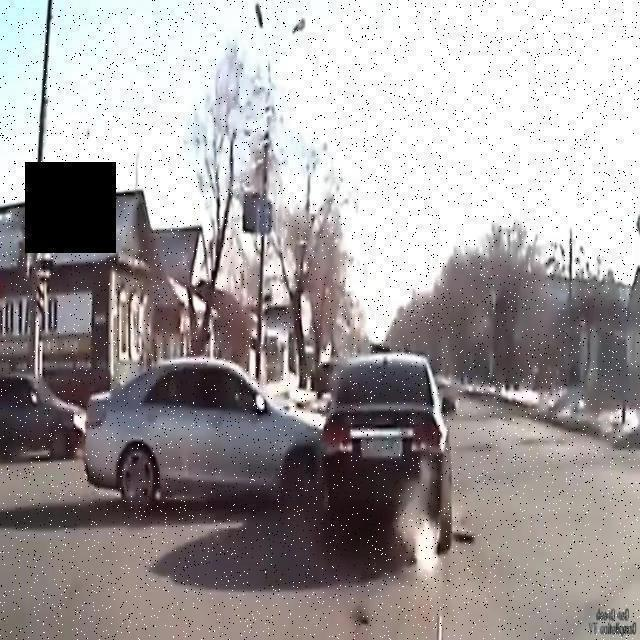accident: (77, 344, 461, 572)
